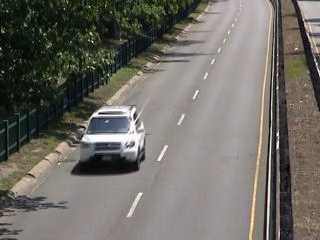car: (75, 101, 153, 174)
